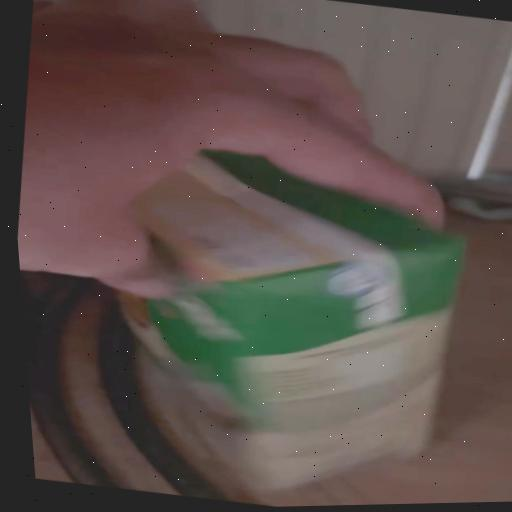ly_giay: (122, 152, 462, 489)
